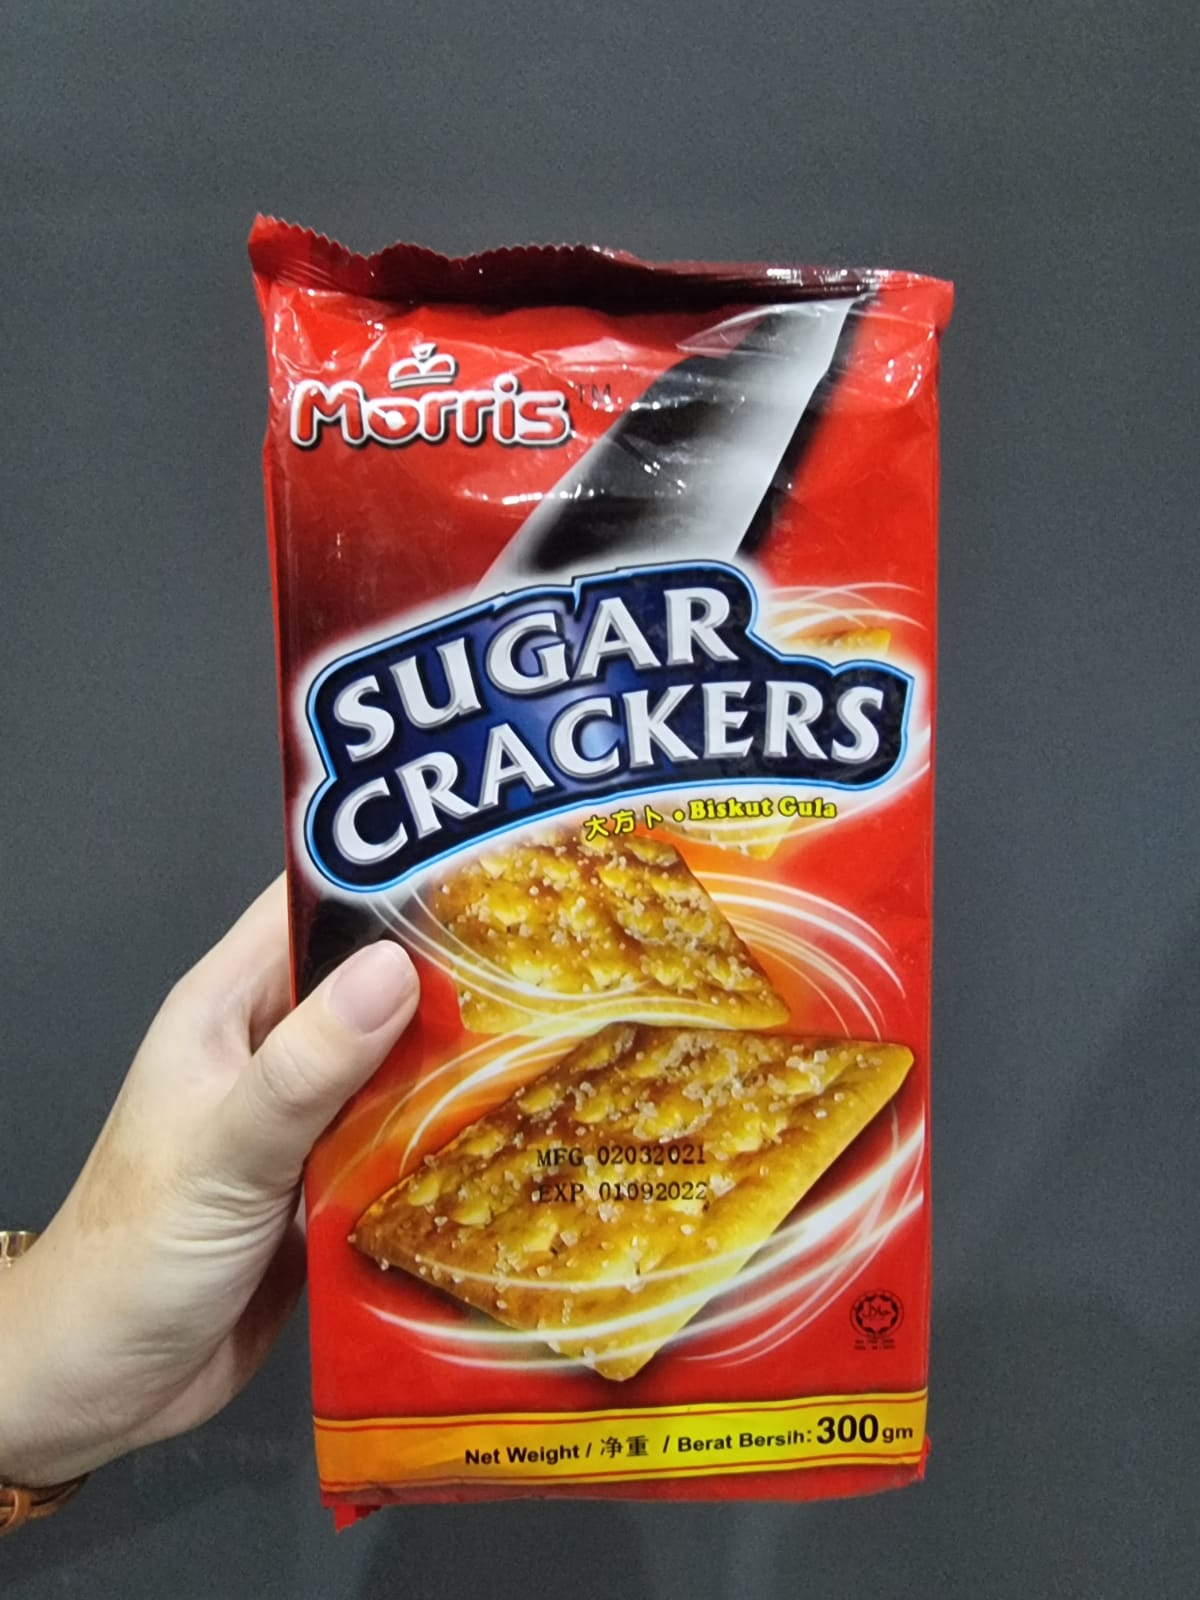Biscuits: (301, 312, 928, 1478)
